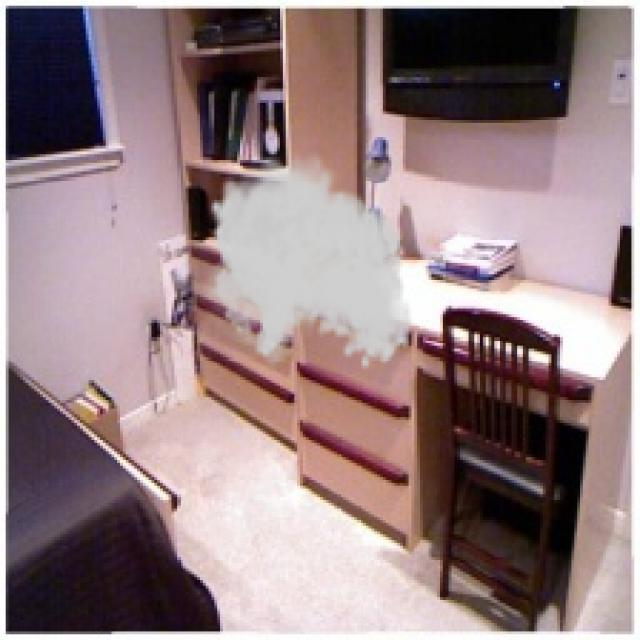Smoke: (197, 146, 414, 372)
